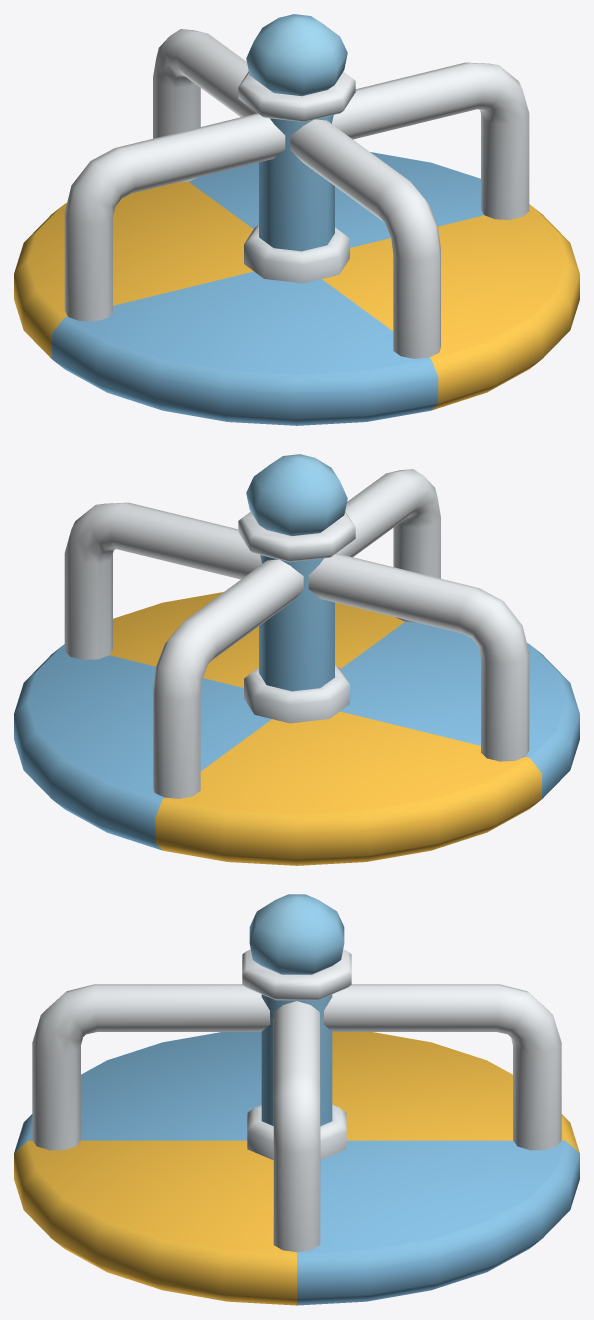
Rendered from merry_go_round.glb.
The picture shows the model from 3 angles, top to bottom: view 1: azimuth 30°, elevation 25°; view 2: azimuth 150°, elevation 25°; view 3: azimuth 270°, elevation 25°; orthographic projection.
Parts seen in each view (by area): view 1: merry_go_round; view 2: merry_go_round; view 3: merry_go_round.
Part boxes in pixels (x1,y1,x2,y2): merry_go_round: [14, 14, 579, 425]; merry_go_round: [14, 454, 579, 865]; merry_go_round: [14, 894, 579, 1305].
Bounding box in the file's own units: 4 × 2.5 × 4.
1 material, 1 textured.
